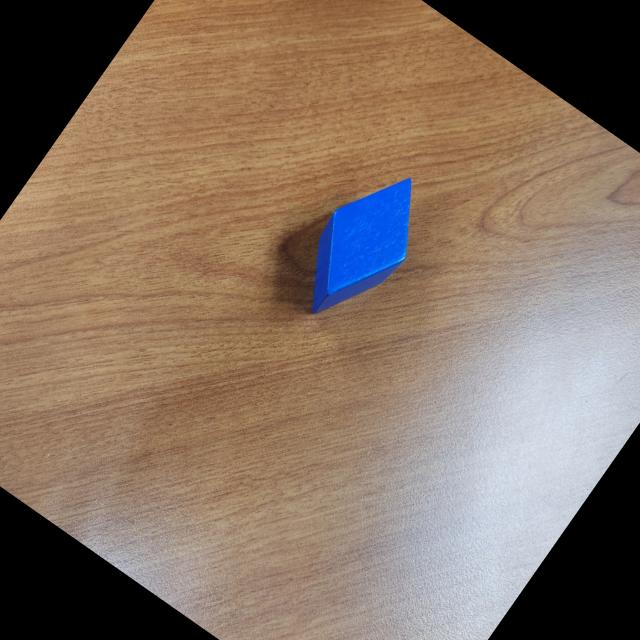blue: (278, 153, 445, 340)
